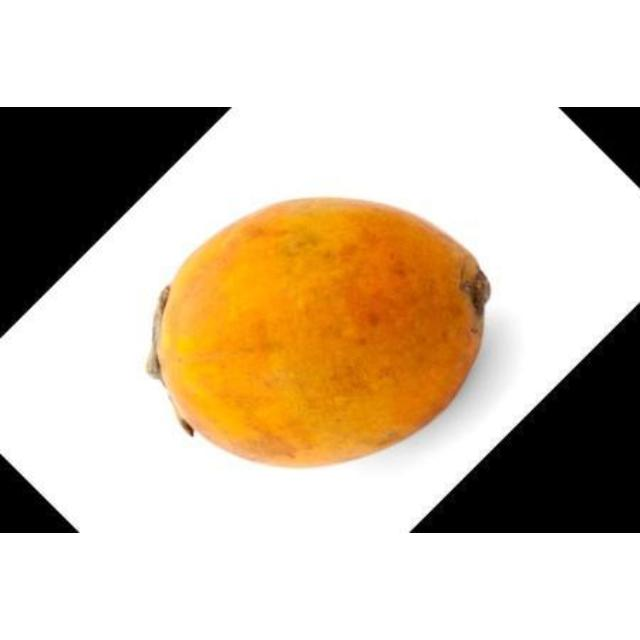good: (155, 197, 492, 471)
